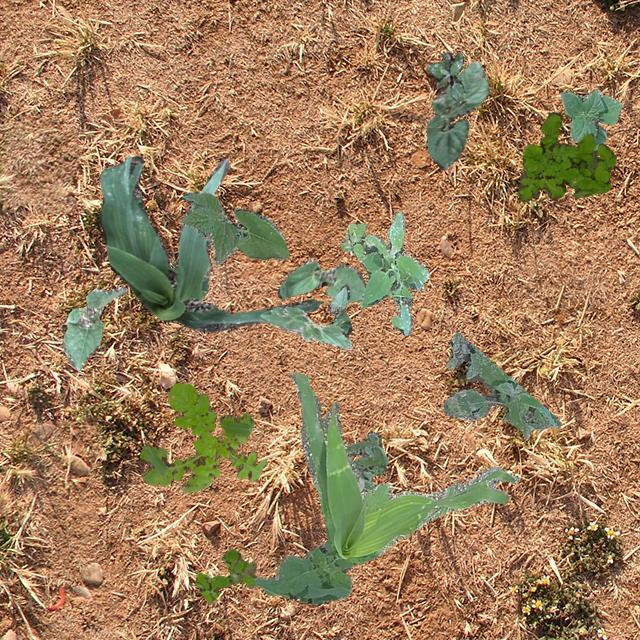crop: (98, 154, 322, 332), (178, 192, 288, 264), (426, 60, 488, 168), (62, 286, 126, 370), (258, 306, 352, 350), (276, 258, 364, 302), (560, 89, 622, 150), (326, 282, 351, 334)
weed: (288, 372, 520, 562), (252, 430, 388, 604), (138, 382, 266, 491), (442, 332, 560, 436), (339, 210, 428, 334), (518, 111, 614, 200), (193, 548, 256, 602), (426, 52, 464, 102)
